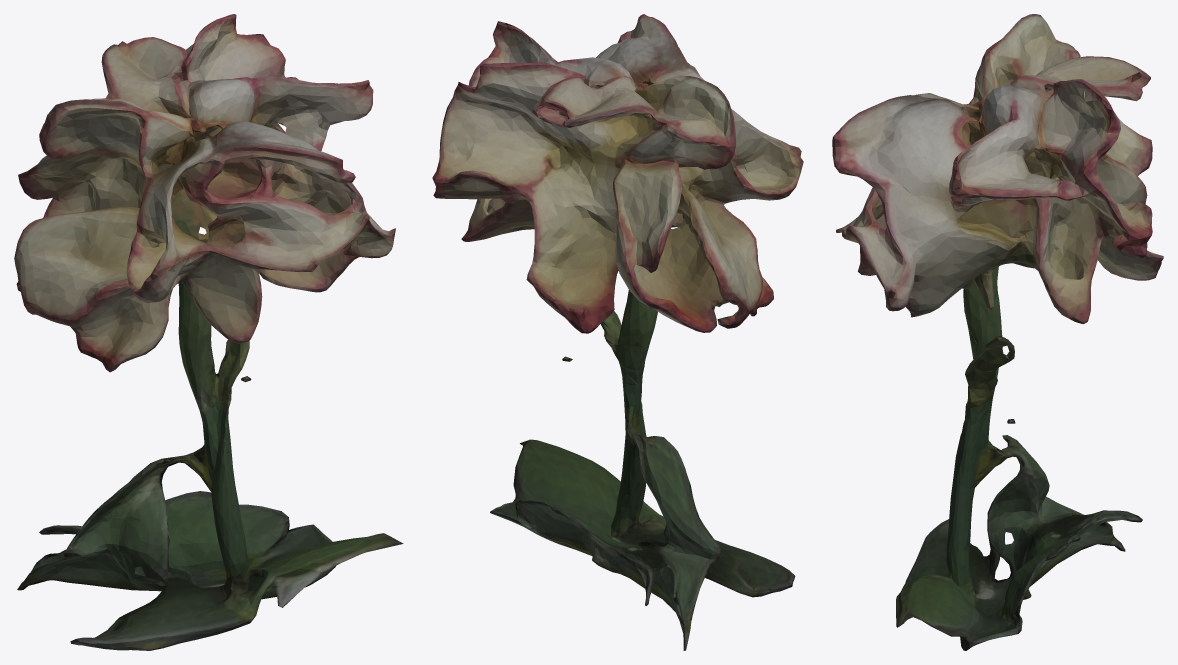
The picture shows the model from 3 angles, left to right: view 1: azimuth 30°, elevation 25°; view 2: azimuth 150°, elevation 25°; view 3: azimuth 270°, elevation 25°; orthographic projection. The views are drawn at different scales.
Visible parts, largest first — view 1: world; view 2: world; view 3: world.
Part boxes in pixels (left/top/right/bottom): world: left=14, top=14, right=403, bottom=650; world: left=432, top=14, right=803, bottom=650; world: left=832, top=14, right=1163, bottom=650.
Size of the model in its own units: 0.5768 by 0.9666 by 0.5251.
1 material, 1 textured.
